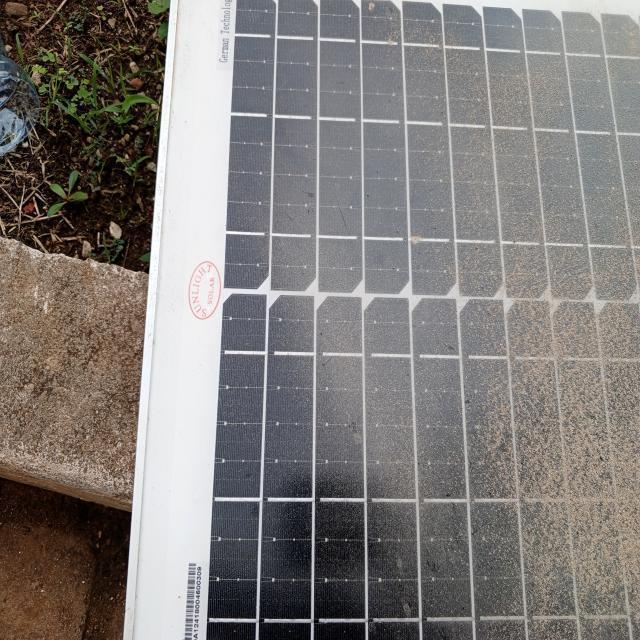Anomaly Solar Panel: (223, 12, 639, 639)
Surface Contaminant: (223, 12, 639, 639)
